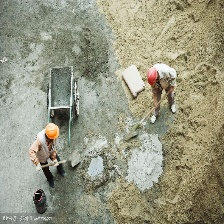helmet: (43, 122, 60, 144), (146, 65, 158, 87)
person: (28, 121, 68, 187), (145, 64, 177, 123)
